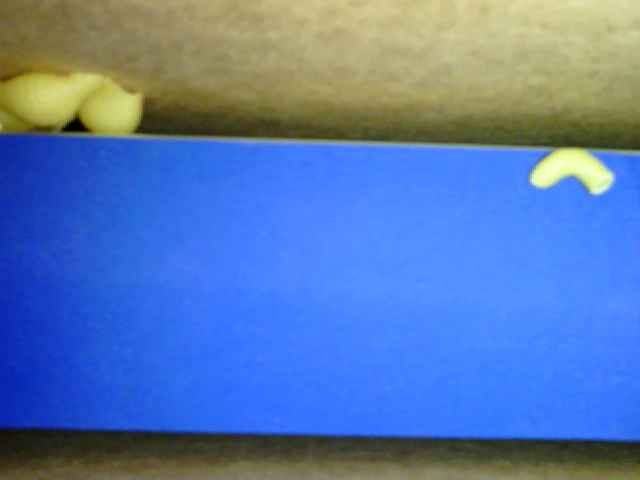elbow: (528, 146, 612, 199)
shell: (1, 69, 104, 134), (76, 80, 144, 139)
